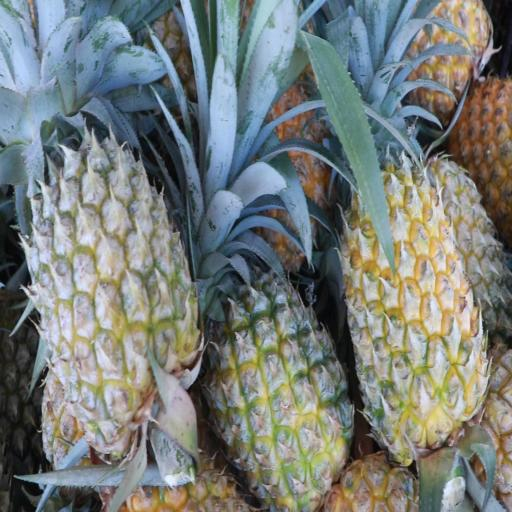------------------------------: (41, 152, 192, 452)
Pineapple - v8 v1: (344, 162, 482, 450), (212, 276, 347, 504), (401, 2, 490, 106)
